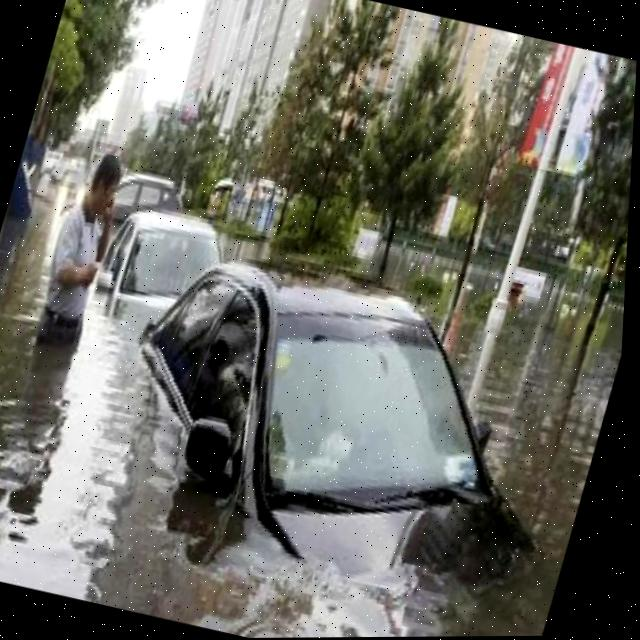civilian: (1, 130, 154, 385)
